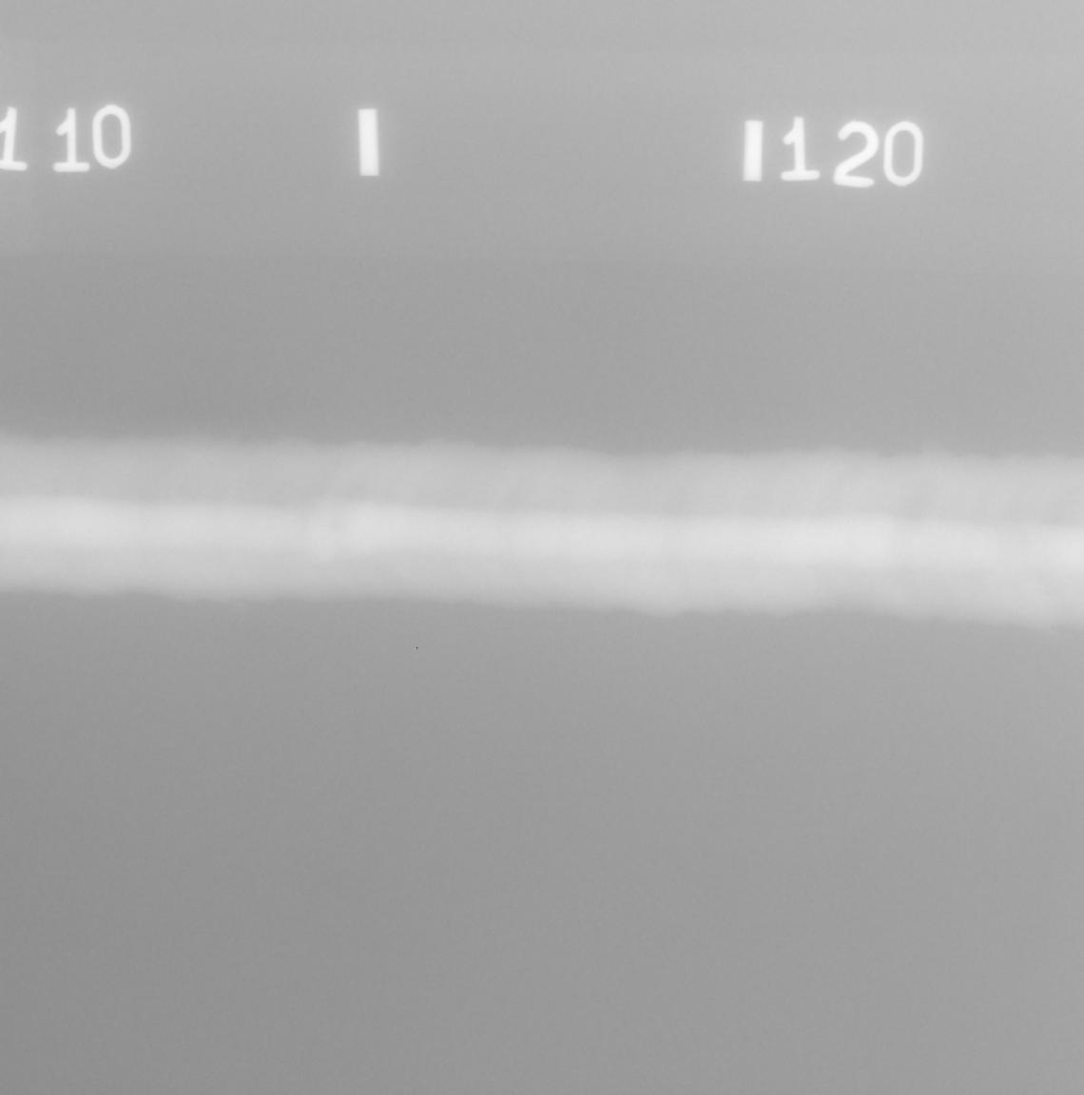Pore/Porosity: (53, 492, 59, 497), (345, 469, 349, 473), (1040, 577, 1042, 580)
